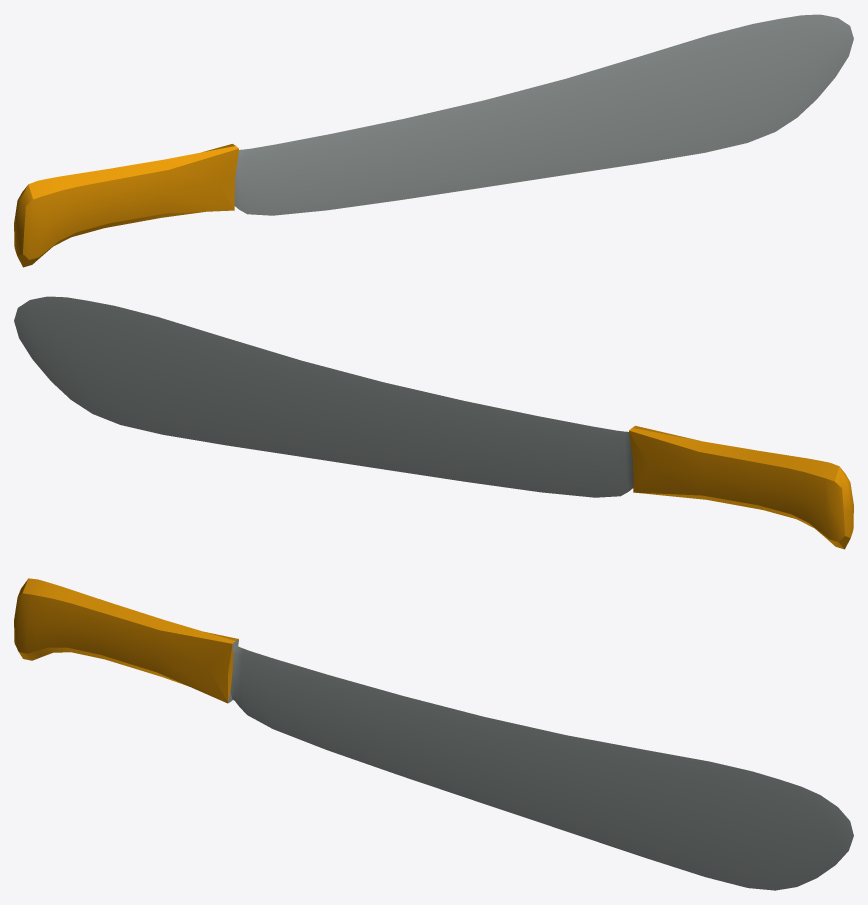
The model's file is Facao.fbx.
The picture shows the model from 3 angles, top to bottom: view 1: azimuth 30°, elevation 25°; view 2: azimuth 150°, elevation 25°; view 3: azimuth 330°, elevation 25°; orthographic projection.
Visible parts, largest first — view 1: Plane; view 2: Plane; view 3: Plane.
Boxes of the visible parts, x1,y1,x2,y2 form: Plane: [14, 14, 853, 267]; Plane: [14, 296, 853, 549]; Plane: [14, 578, 853, 890].
Bounding box in the file's own units: 98.7 × 15.26 × 3.13.
